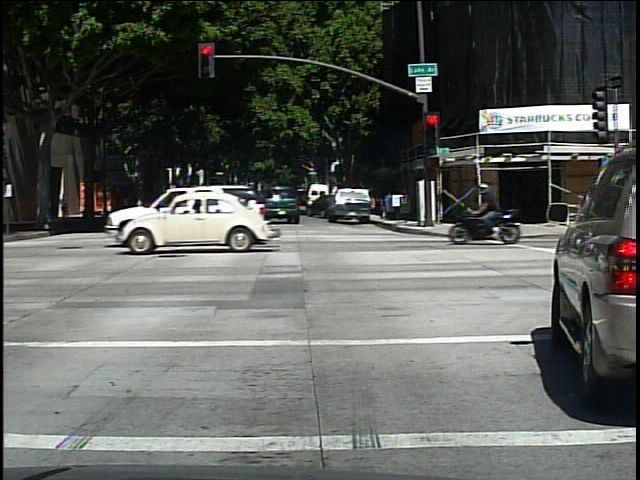person: (487, 175, 523, 236), (60, 191, 71, 223)
